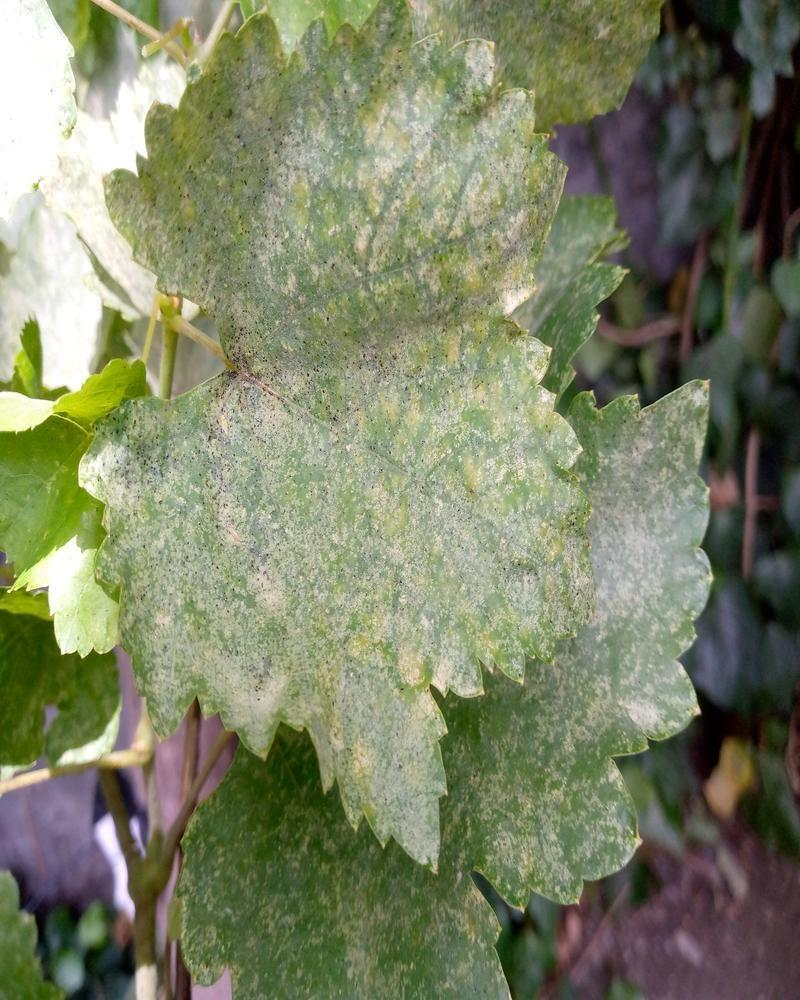Powdery-Mildew: (131, 325, 446, 727), (335, 475, 583, 858), (344, 79, 559, 278), (573, 503, 715, 745), (256, 109, 353, 299), (421, 386, 548, 513), (464, 234, 543, 313), (629, 397, 708, 476), (80, 426, 159, 505), (458, 37, 489, 68), (509, 93, 540, 124)
